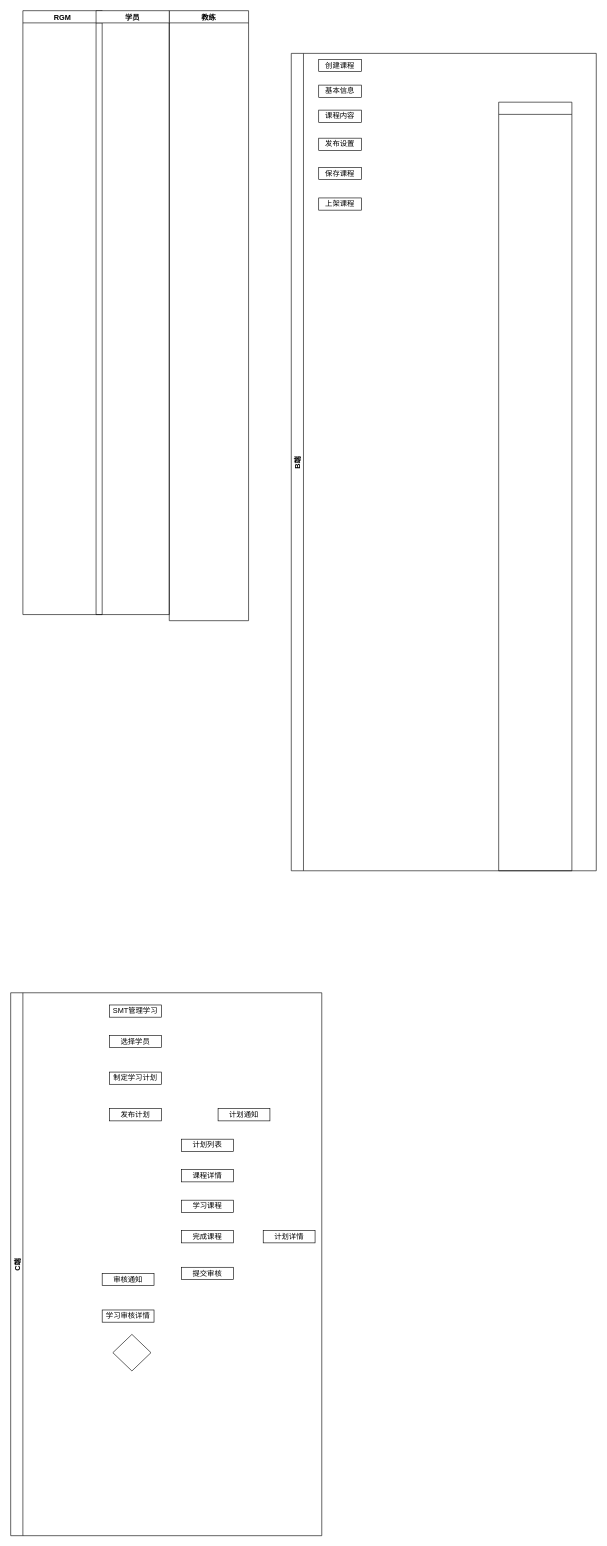
Image size: 607x1546. Some labels were removed from this diagram. Here are the shapes that lost their labels. From the top down, the box of each, then its label:
(498, 102, 572, 871): 管理员
(112, 1334, 151, 1371): 是否审核通过
